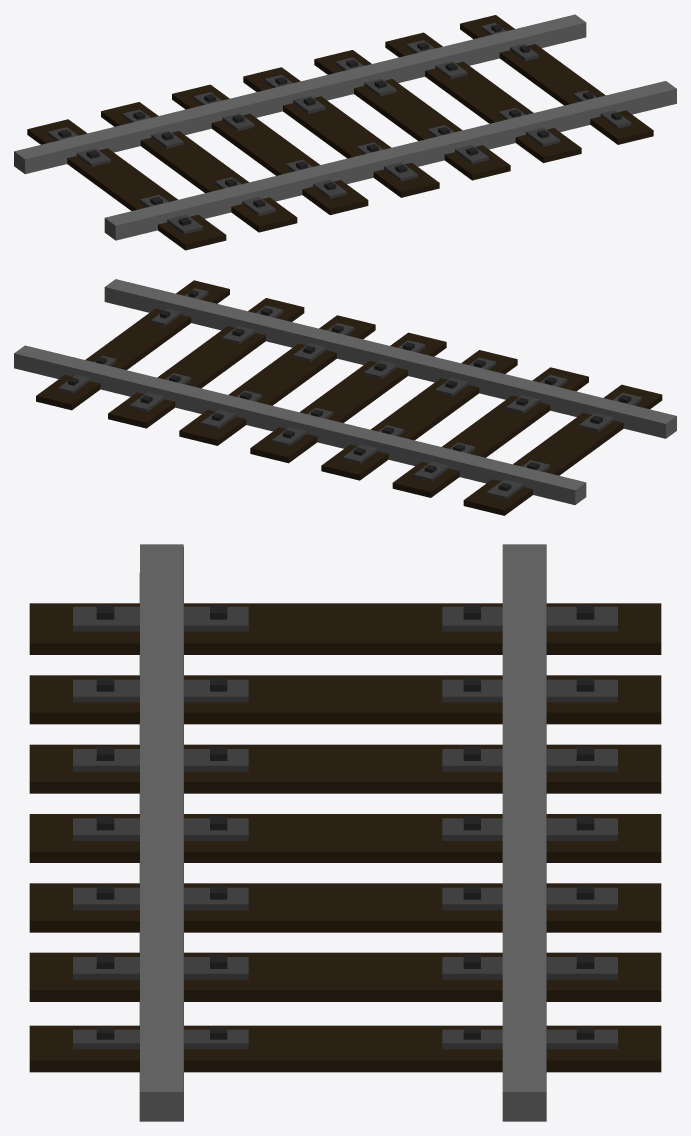
The model's file is rail_recht_4m.fbx.
3 views of the same model, one above another, from view 1: azimuth 30°, elevation 25°; view 2: azimuth 150°, elevation 25°; view 3: azimuth 270°, elevation 25° (orthographic). The views are drawn at different scales.
Parts seen in each view (by area): view 1: Plane.021; view 2: Plane.021; view 3: Plane.021.
Part boxes in pixels (box(x1,y1,x2,y2)): Plane.021: box(14, 14, 676, 250); Plane.021: box(14, 279, 676, 515); Plane.021: box(29, 544, 661, 1121).
Size of the model in its own units: 4.87 by 0.1335 by 2.38.
